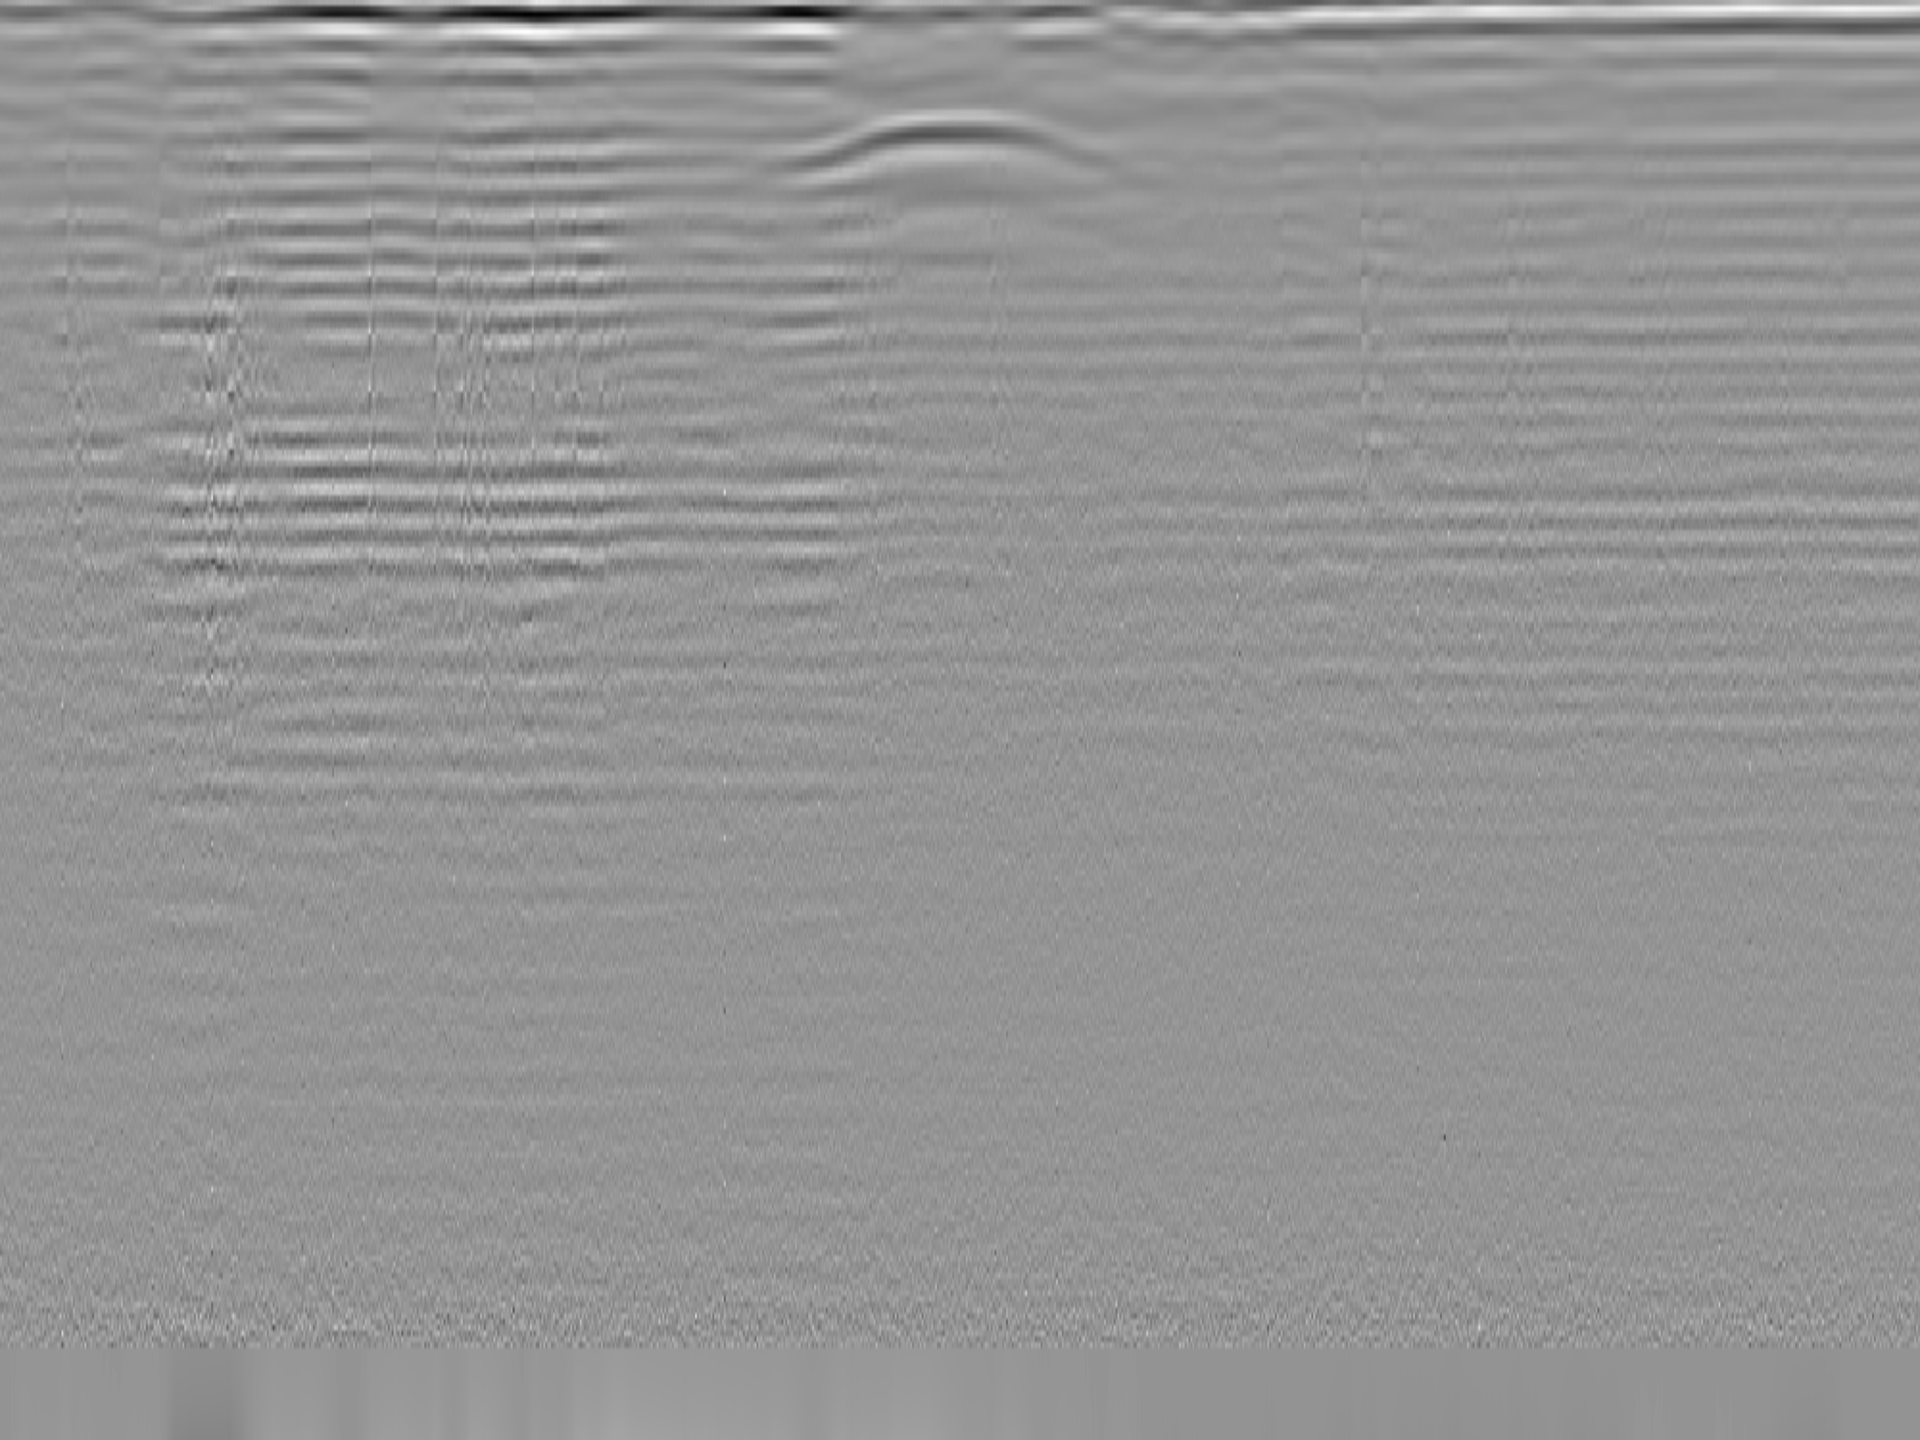Tunnel: (770, 112, 1150, 175)
